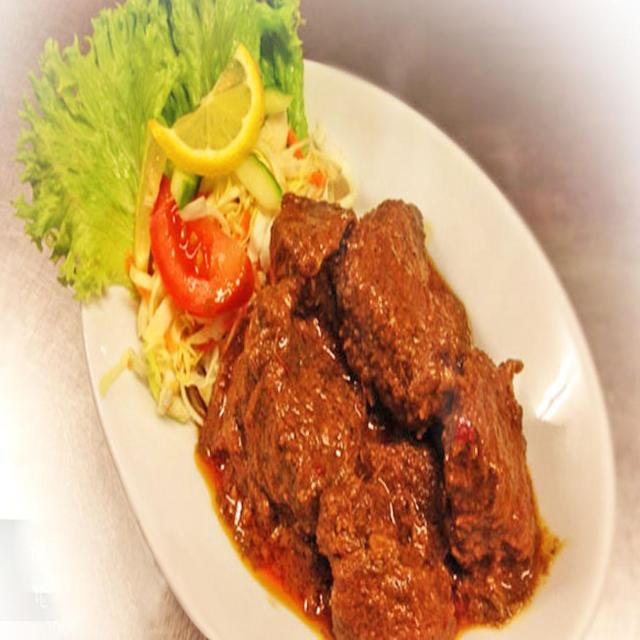Rendang: (222, 191, 555, 640)
